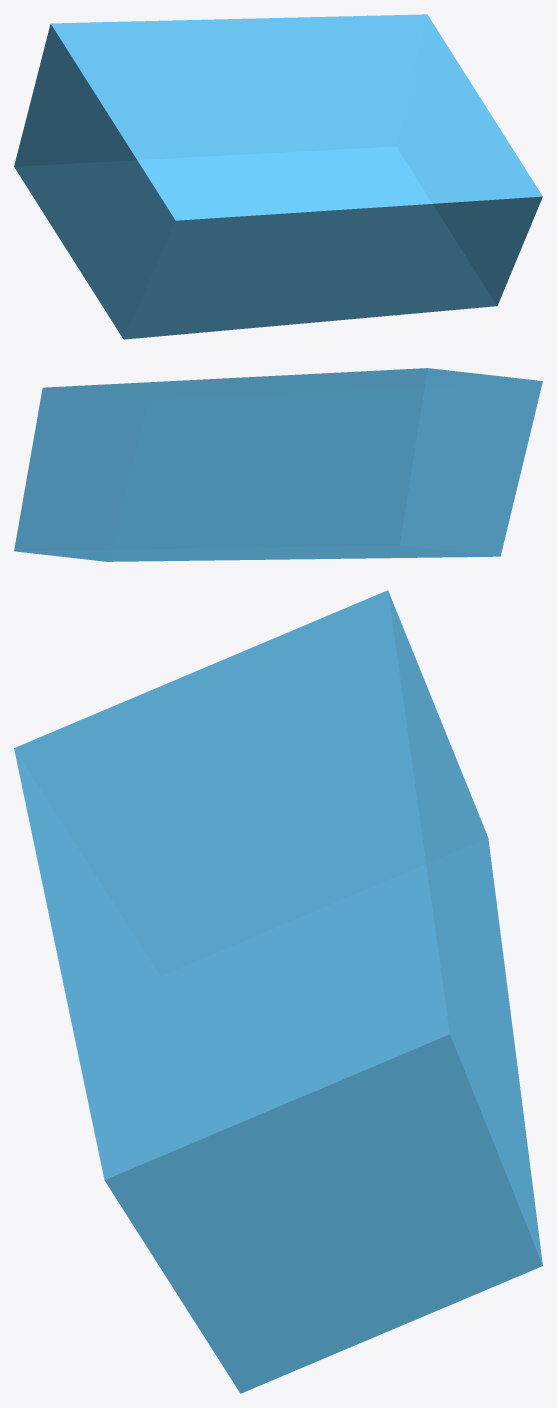
File: Event_420604493_HErechit_2.fbx
3 views of the same model, one above another, from view 1: azimuth 30°, elevation 25°; view 2: azimuth 150°, elevation 25°; view 3: azimuth 270°, elevation 25° (orthographic). The views are drawn at different scales.
Visible parts, largest first — view 1: Model; view 2: Model; view 3: Model.
Part boxes in pixels (x1,y1,x2,y2): Model: (14,14,542,339); Model: (14,368,542,561); Model: (14,590,542,1393).
Bounding box in the file's own units: 0.8482 × 0.6952 × 0.6489.
